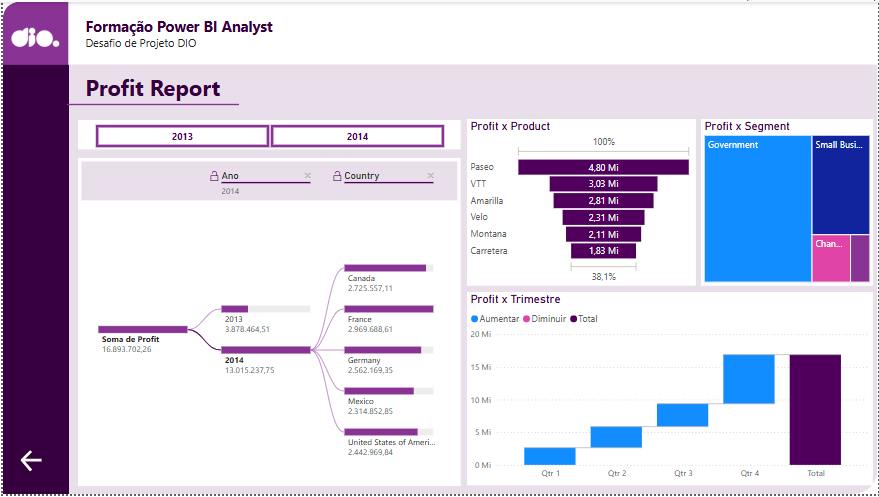

What the dashboard file says about the page in this screenshot:
{"tool":"powerbi","page":{"name":"Profit","canvas":[1280,720],"ordinal":1},"visuals":[{"type":"shape","box":[0,0,1280,720],"z":0},{"type":"shape","box":[0,0,96.7,720],"z":1000},{"type":"waterfallChart","title":"Profit x Trimestre","fields":{"Y":["Sum(financials.Profit)"],"Category":["financials.Date.Variation.Hierarquia de datas.Trimestre"]},"box":[679.2,425,593.8,283.3],"z":2000},{"type":"treemap","title":"Profit x Segment","fields":{"Values":["Sum(financials.Profit)"],"Group":["financials.Segment"]},"box":[1020.8,171.9,252.1,243.8],"z":3000},{"type":"decompositionTreeVisual","fields":{"ExplainBy":["financials.Date.Variation.Hierarquia de datas.Ano","financials.Country"],"Analyze":["Sum(financials.Profit)"]},"box":[110,228.3,560,480],"z":4000},{"type":"funnel","title":"Profit x Product","fields":{"Category":["financials.Product"],"Y":["Sum(financials.Profit)"]},"box":[679,171.6,334.6,244.4],"z":5000},{"type":"shape","box":[95,0,1185,91.7],"z":6000},{"type":"shape","box":[94.4,133.2,466.7,39.2],"z":6000,"group":"g1"},{"type":"textbox","box":[115.2,98.1,441.2,56.9],"z":7000,"group":"g1"},{"type":"slicer","fields":{"Values":["financials.Date.Variation.Hierarquia de datas.Ano"]},"box":[110,173.3,560,43.3],"z":7000},{"type":"group","id":"g1","title":"Grupo 1","box":[94.4,98.1,466.7,74.4],"z":8000},{"type":"shape","box":[0,0,96.1,92.2],"z":9000},{"type":"textbox","box":[115.7,15.7,354.9,60.8],"z":10000},{"type":"image","box":[8,12,80,80],"z":11000},{"type":"actionButton","box":[21.3,651.1,53.2,40.4],"z":12000}]}

Visuals, with their boxes on the page's 1280x720 design canvas (x1, y1, x2, y2). These are canvas units, not pixel positions in the 879x497 screenshot, which may show the page scaled, cropped or inside an application window:
shape: pyautogui.locateOnScreen(0, 0, 1280, 720)
shape: pyautogui.locateOnScreen(0, 0, 97, 720)
"Profit x Trimestre" waterfallChart: pyautogui.locateOnScreen(679, 425, 1273, 708)
"Profit x Segment" treemap: pyautogui.locateOnScreen(1021, 172, 1273, 416)
decompositionTreeVisual - financials.Date.Variation.Hierarquia de datas.Ano x financials.Country: pyautogui.locateOnScreen(110, 228, 670, 708)
"Profit x Product" funnel: pyautogui.locateOnScreen(679, 172, 1014, 416)
shape: pyautogui.locateOnScreen(95, 0, 1280, 92)
shape: pyautogui.locateOnScreen(94, 133, 561, 172)
textbox: pyautogui.locateOnScreen(115, 98, 556, 155)
slicer - financials.Date.Variation.Hierarquia de datas.Ano: pyautogui.locateOnScreen(110, 173, 670, 217)
"Grupo 1" group: pyautogui.locateOnScreen(94, 98, 561, 172)
shape: pyautogui.locateOnScreen(0, 0, 96, 92)
textbox: pyautogui.locateOnScreen(116, 16, 471, 76)
image: pyautogui.locateOnScreen(8, 12, 88, 92)
actionButton: pyautogui.locateOnScreen(21, 651, 74, 692)
